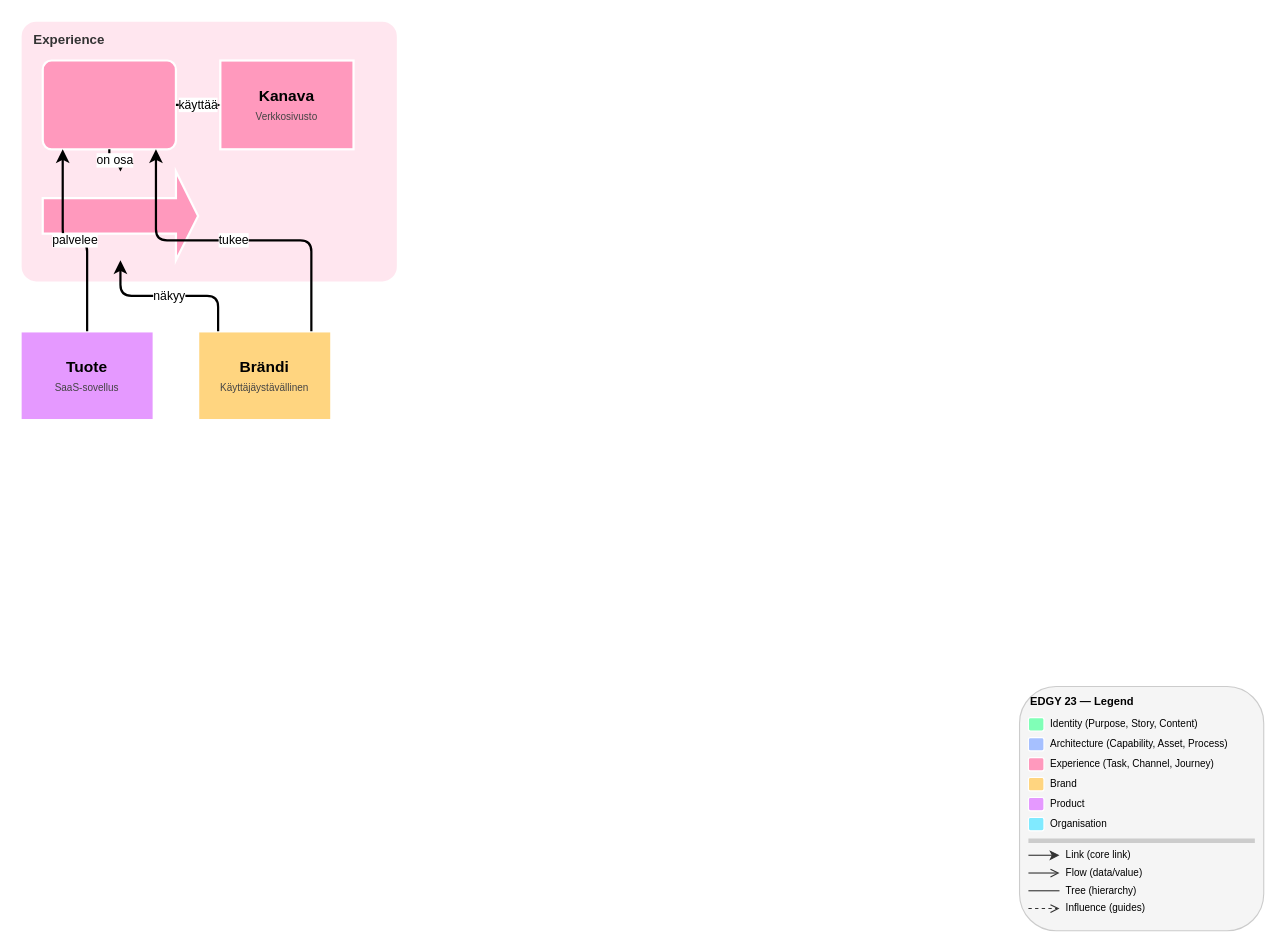
Some shapes in this 1283 by 950 pixel diagram are drawn without their labels. Each missing label, with the centre of its shape:
"Matka Asiakasmatka" goes at point 120,215.
"Tehtävä Asiakasrekisteröityminen" goes at point 108,104.
